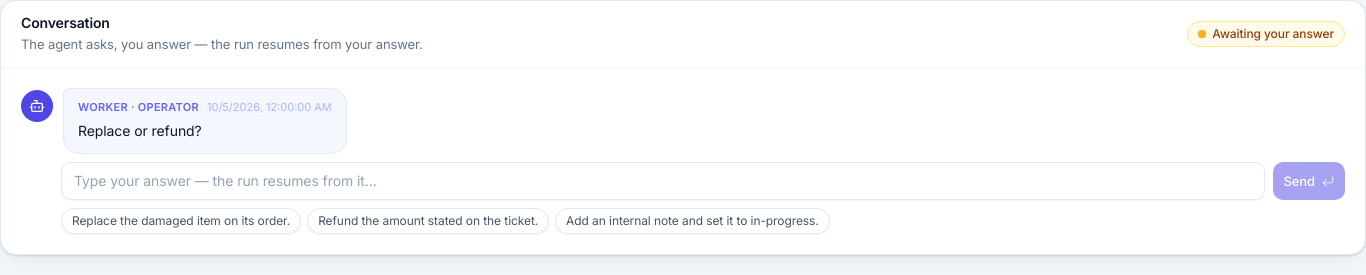
Scenario: ClarificationChatView › quick-fills draft the reply without sending
Click the button "Replace the damaged item on its order.": (181,221) top-left (61, 208), bottom-right (301, 234)
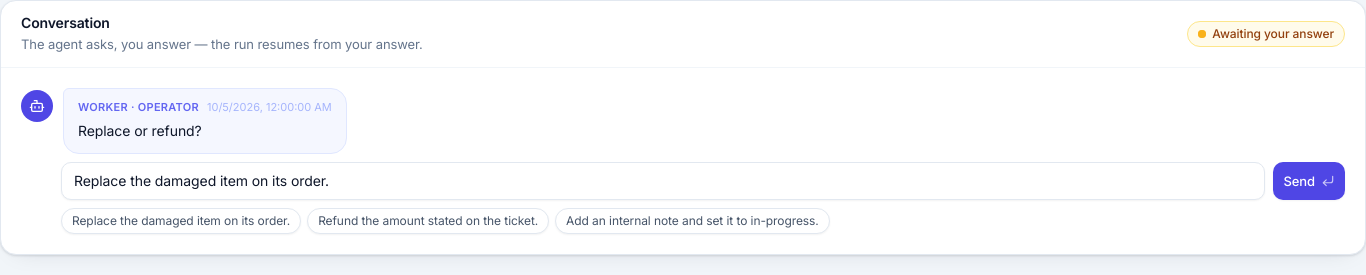
Expected: the field named "answer" holds "Replace the damaged item on its order.", top-left (61, 162), bottom-right (1265, 200)
